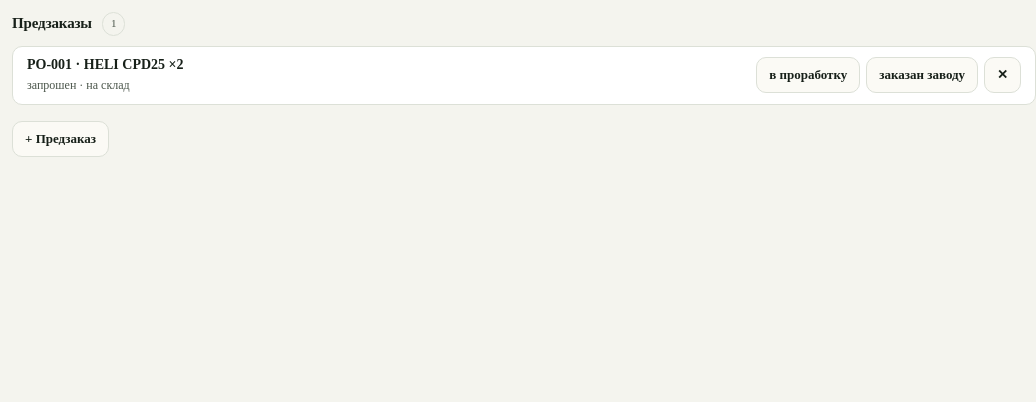
it: формы предзаказов › передаёт контракт и дату при заказе заводу
Click the button "заказан заводу".
click(922, 75)  # box [866, 57, 978, 93]
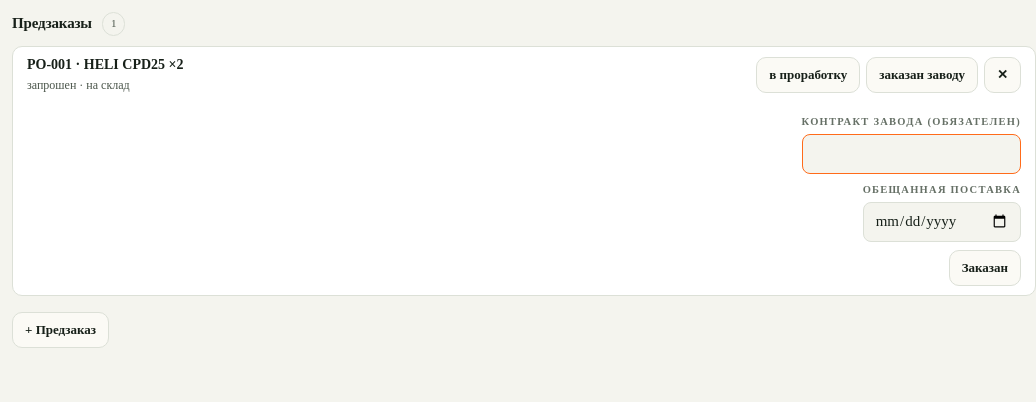
Type "HL-2026-015" into the field labelled "Контракт завода (обязателен)".
click(911, 154); type("HL-2026-015")  # box [802, 134, 1021, 174]
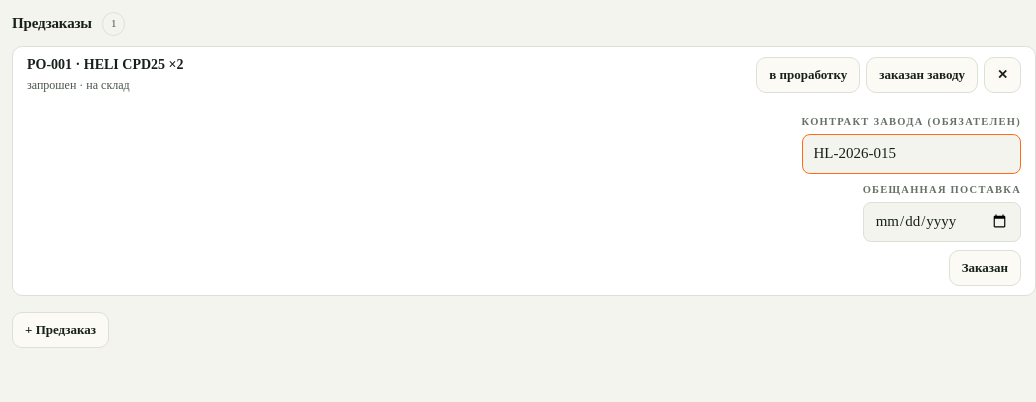
Type "2026-10-01" into the date field labelled "Обещанная поставка".
click(942, 222); type("2026-10-01")  # box [863, 202, 1021, 242]
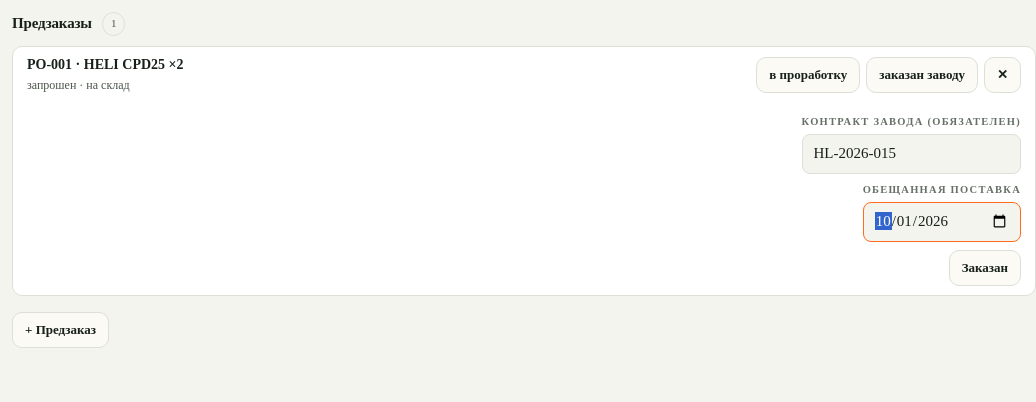
Click the button "Заказан".
click(985, 268)  # box [949, 250, 1021, 286]
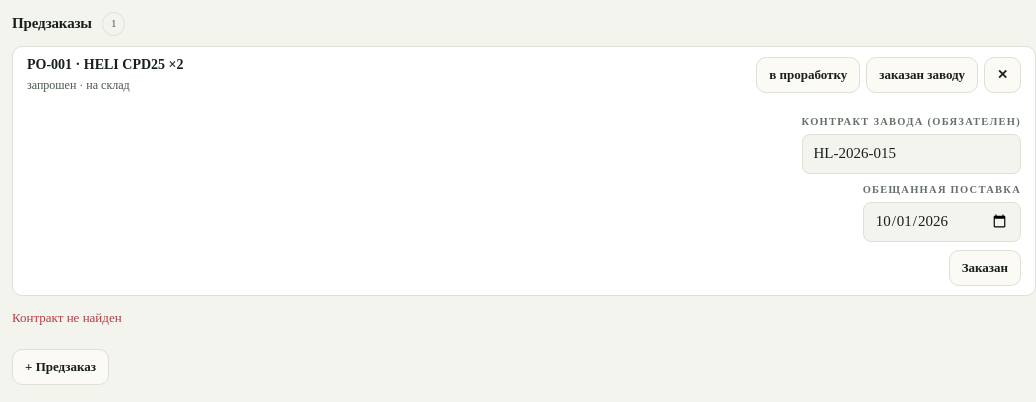
Result: the text "Контракт не найден" is shown at [12, 310, 122, 325]
